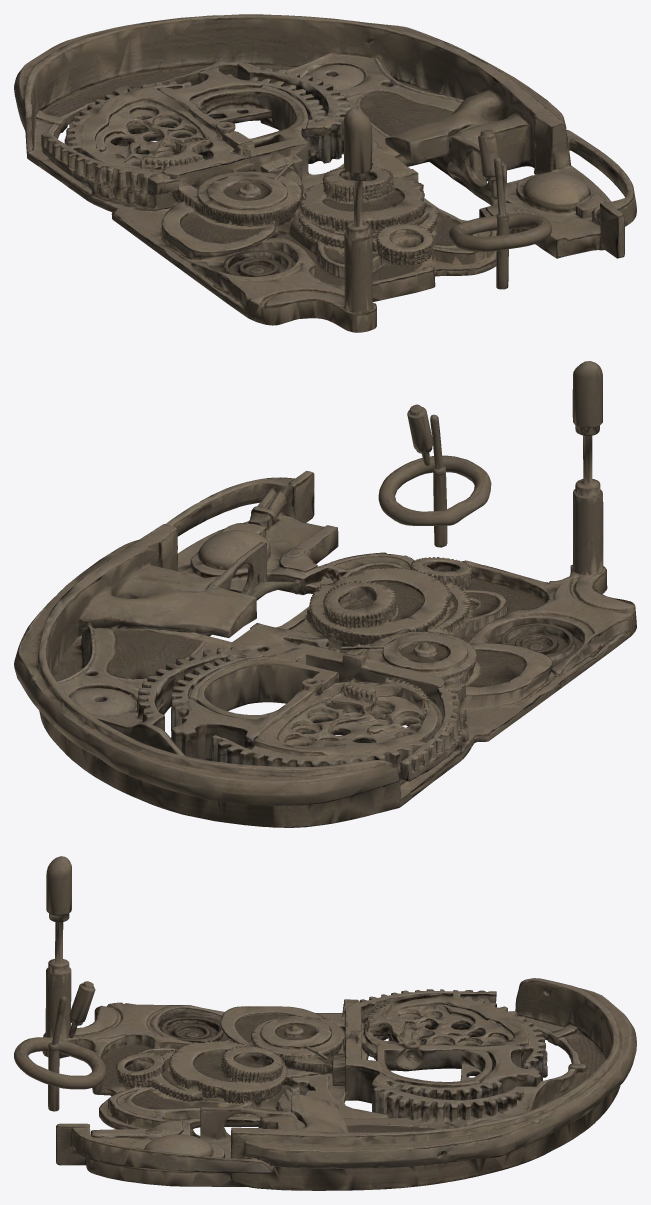
File: reloj-completo.glb
3 views of the same model, one above another, from view 1: azimuth 30°, elevation 25°; view 2: azimuth 150°, elevation 25°; view 3: azimuth 270°, elevation 25° (orthographic). The views are drawn at different scales.
Size of the model in its own units: 1.29 by 0.6561 by 1.9.
1 material, 1 textured.
